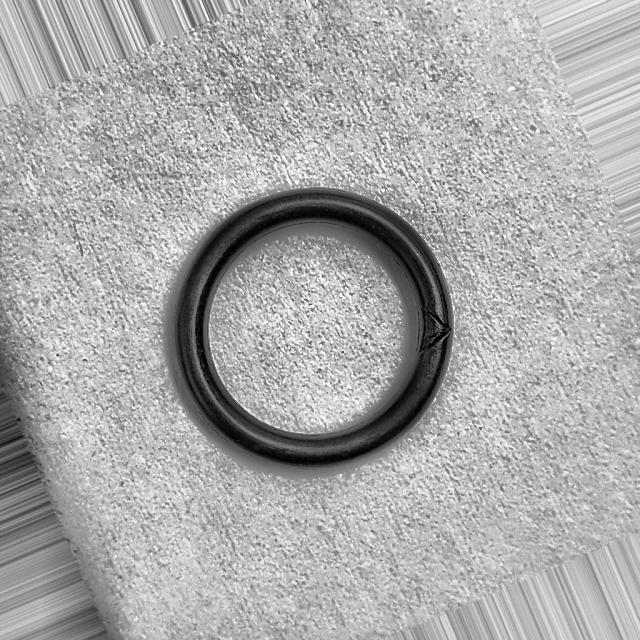切割缺陷: (415, 304, 455, 358)
